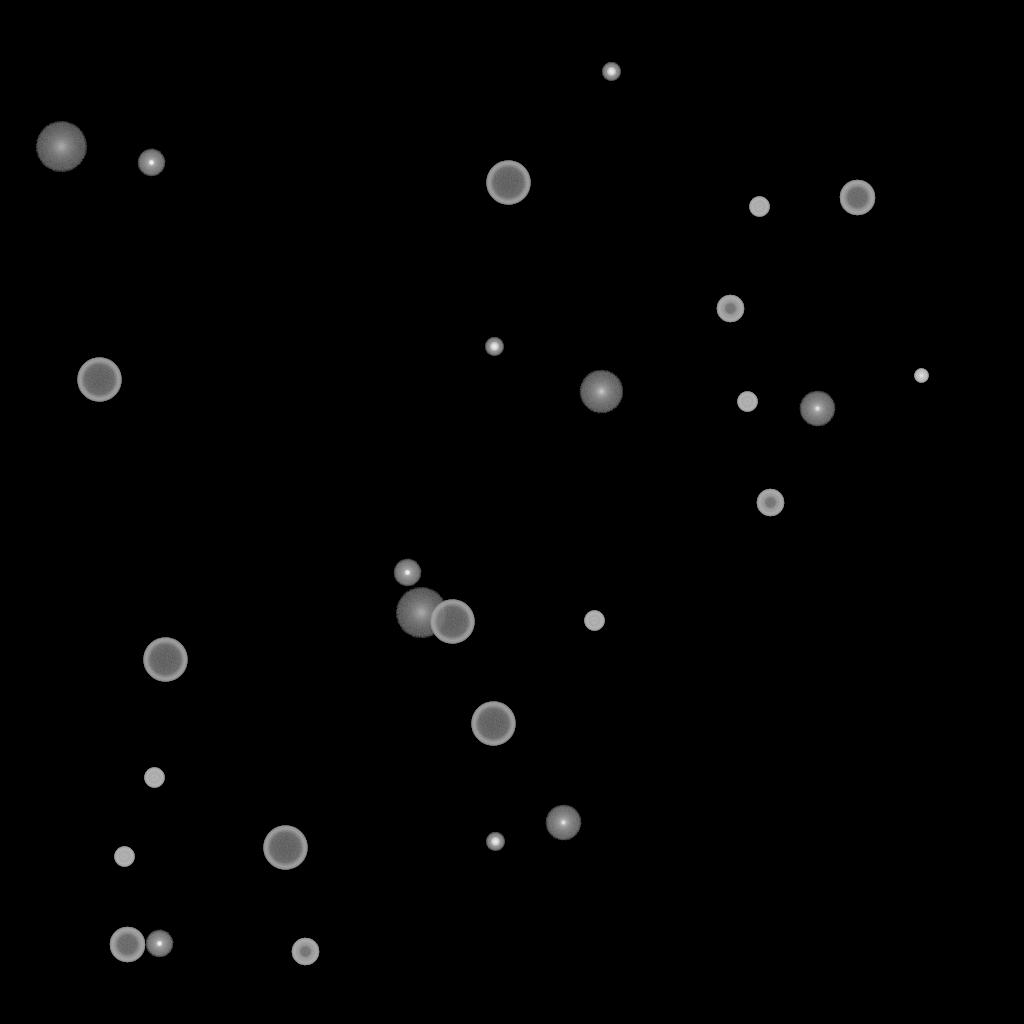depth:-10: (393, 559, 421, 587), (137, 149, 165, 177), (145, 930, 173, 958)
depth:-20: (602, 63, 620, 81), (486, 833, 504, 851), (485, 338, 503, 356)
depth:-30: (914, 369, 928, 383)
depth:-40: (114, 847, 134, 867), (144, 768, 164, 788), (749, 197, 769, 217), (584, 611, 604, 631), (737, 392, 757, 412)
depth:-50: (756, 489, 784, 517), (291, 938, 319, 966), (716, 295, 744, 323)
depth:-60: (109, 927, 145, 963), (839, 180, 875, 216)
depth:-70: (471, 702, 515, 746), (143, 638, 187, 682), (486, 161, 530, 205), (430, 600, 474, 644), (263, 826, 307, 870), (77, 358, 121, 402)
depth:0: (799, 391, 835, 427), (545, 805, 581, 841)
depth:10: (579, 370, 623, 414)
depth:20: (395, 588, 447, 638), (35, 122, 87, 172)
